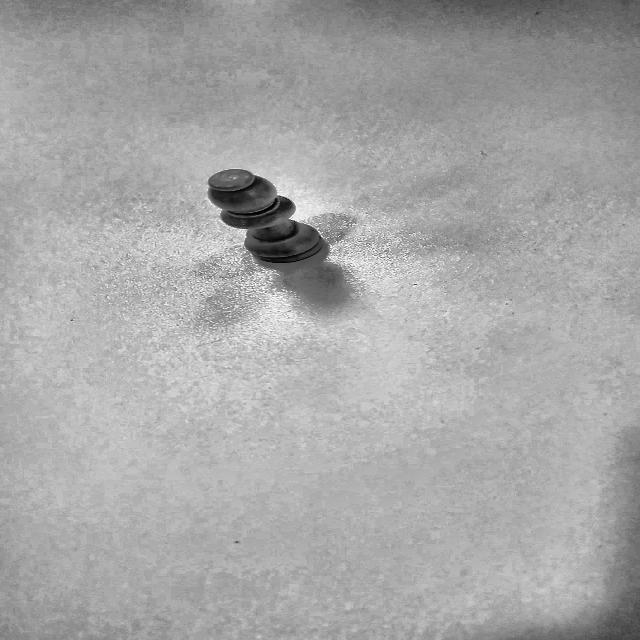white-bishop: (208, 169, 344, 305)
